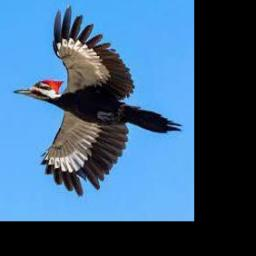Woodpecker: (13, 4, 182, 196)
